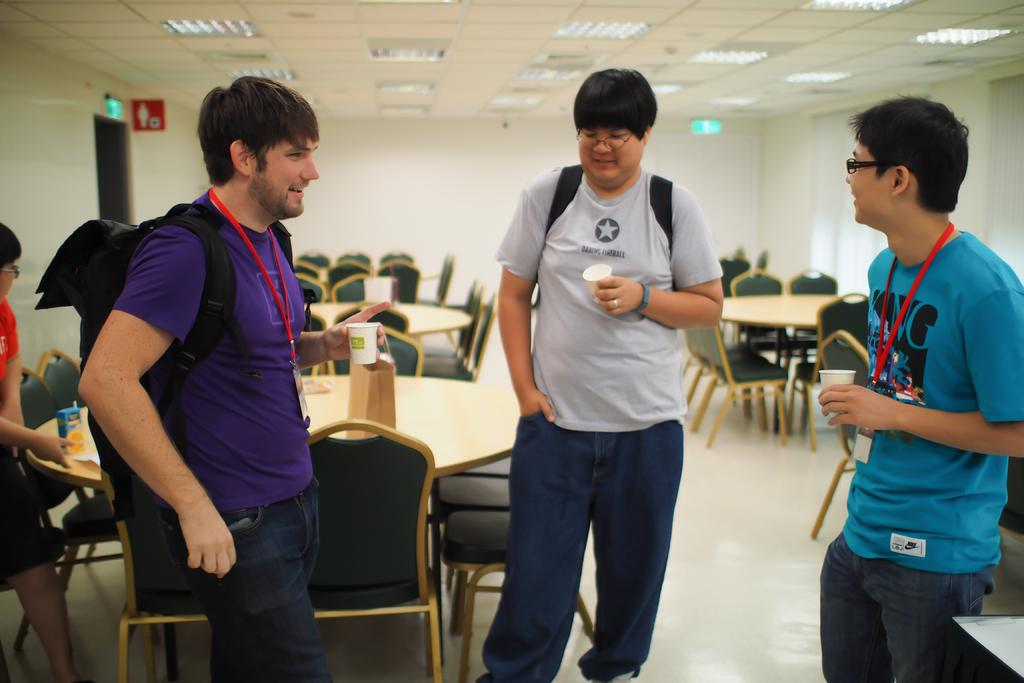Chair: (242, 420, 453, 682), (106, 454, 235, 682), (671, 310, 786, 441), (812, 289, 883, 425), (401, 295, 493, 391), (419, 276, 495, 350), (723, 268, 793, 302), (381, 259, 427, 300), (794, 267, 852, 299), (432, 251, 461, 309), (335, 258, 371, 304)
